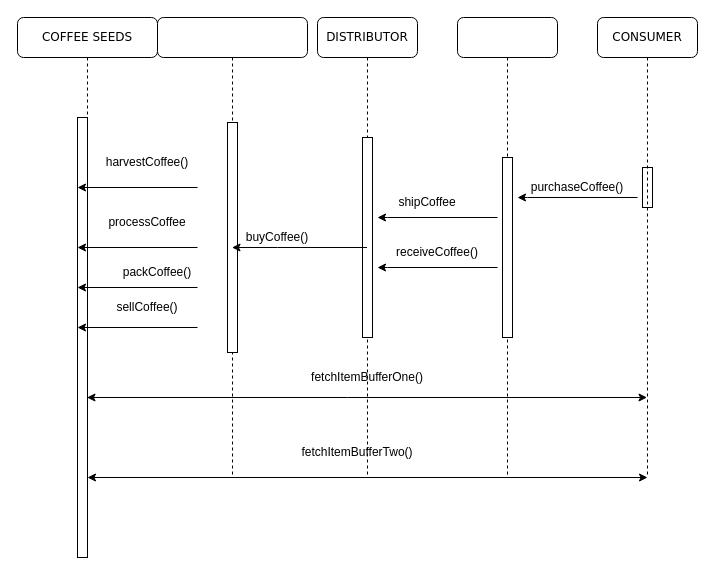
The diagram is 715 pixels wide and 575 high, and some of its shapes have lost their labels. Here are the shapes that lost their labels. From the top down, the box of each, then its label:
(156, 16, 308, 478): FARMER
(456, 16, 558, 478): RETAILER
